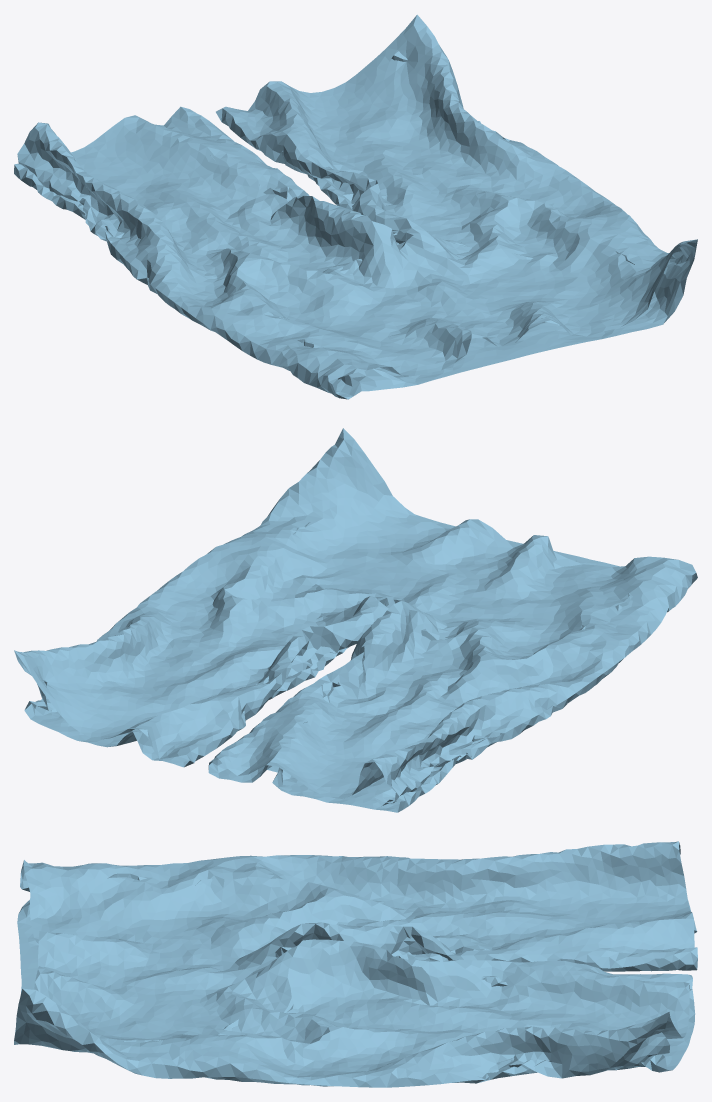
The model's file is frame_02.glb.
3 views of the same model, one above another, from view 1: azimuth 30°, elevation 25°; view 2: azimuth 150°, elevation 25°; view 3: azimuth 270°, elevation 25° (orthographic). The views are drawn at different scales.
Visible parts, largest first — view 1: frame_02.obj; view 2: frame_02.obj; view 3: frame_02.obj.
Part boxes in pixels (bbox=[...]): frame_02.obj: bbox=[14, 14, 697, 399]; frame_02.obj: bbox=[14, 428, 697, 812]; frame_02.obj: bbox=[14, 841, 697, 1087].
Size of the model in its own units: 1.24 by 0.218 by 1.61.
